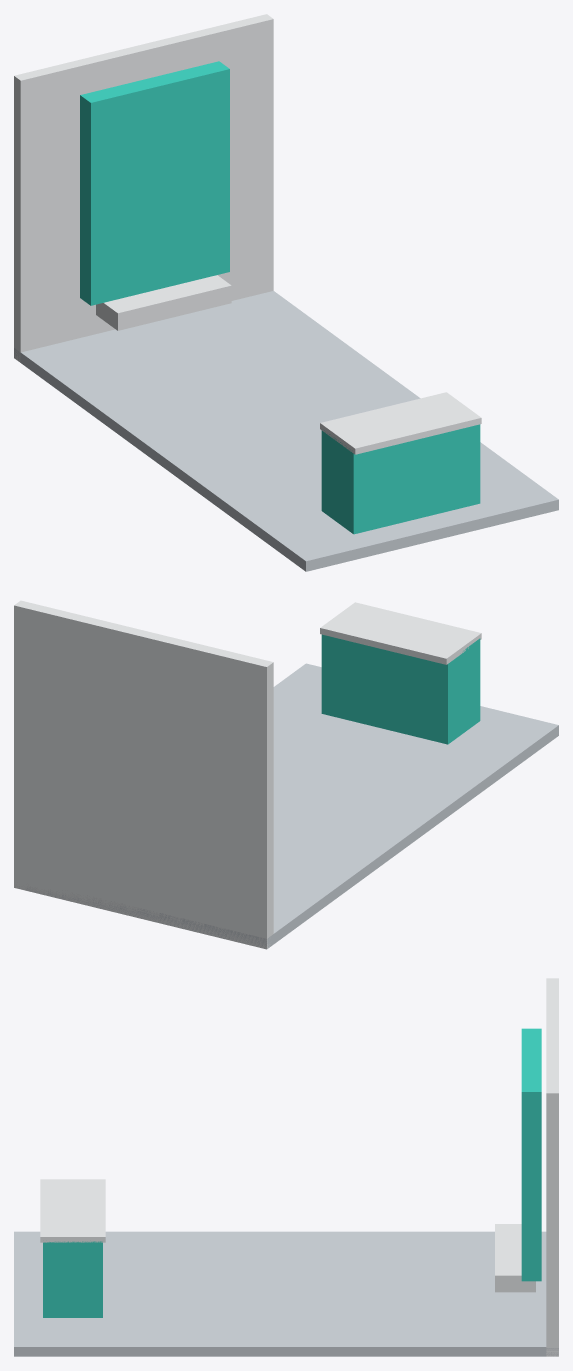
3 views of the same model, one above another, from view 1: azimuth 30°, elevation 25°; view 2: azimuth 150°, elevation 25°; view 3: azimuth 270°, elevation 25° (orthographic). The views are drawn at different scales.
Visible parts, largest first — view 1: Exhibition Booth Concept; view 2: Exhibition Booth Concept; view 3: Exhibition Booth Concept.
Part boxes in pixels (box(x1,y1,x2,y2)): Exhibition Booth Concept: box(14, 14, 558, 571); Exhibition Booth Concept: box(14, 600, 558, 949); Exhibition Booth Concept: box(14, 978, 558, 1356).
Size of the model in its own units: 3 by 3.2 by 6.
